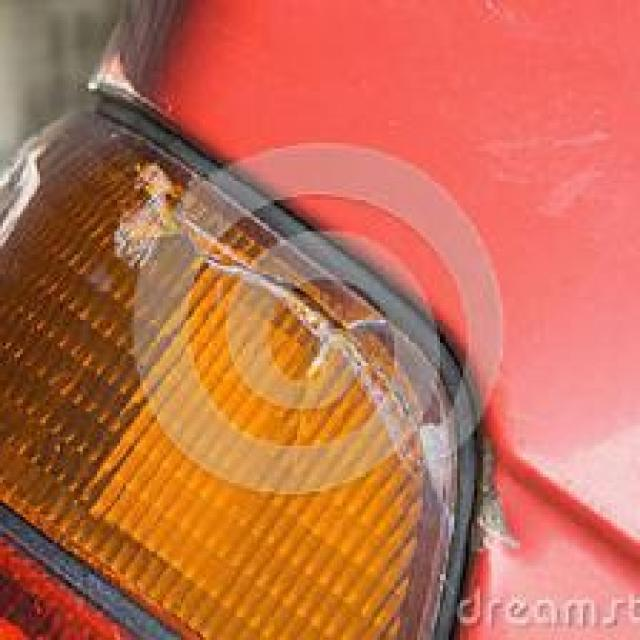damaged: (114, 160, 512, 543)
